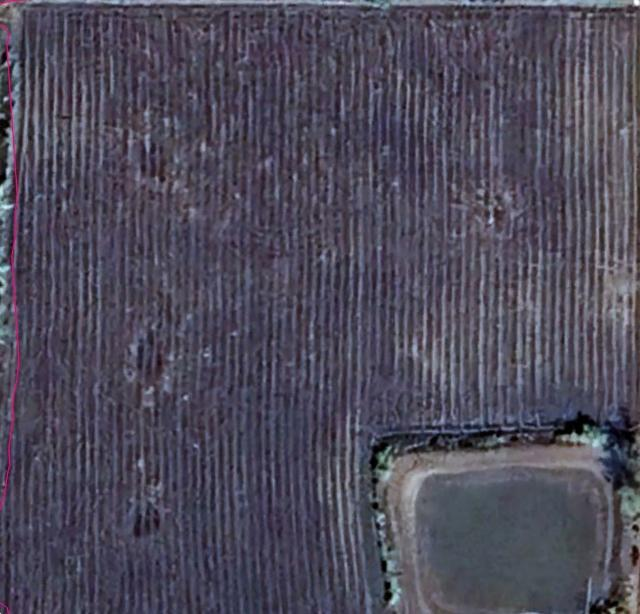Farms: (4, 8, 630, 613)
